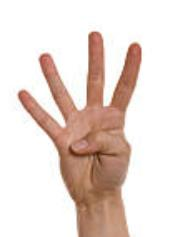right: (16, 28, 144, 200)
